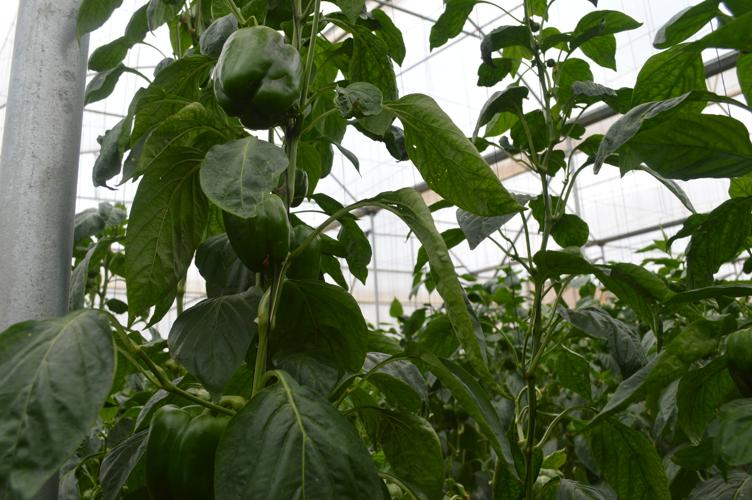BellPepper: (128, 391, 234, 497), (212, 19, 309, 134), (209, 187, 295, 271)
